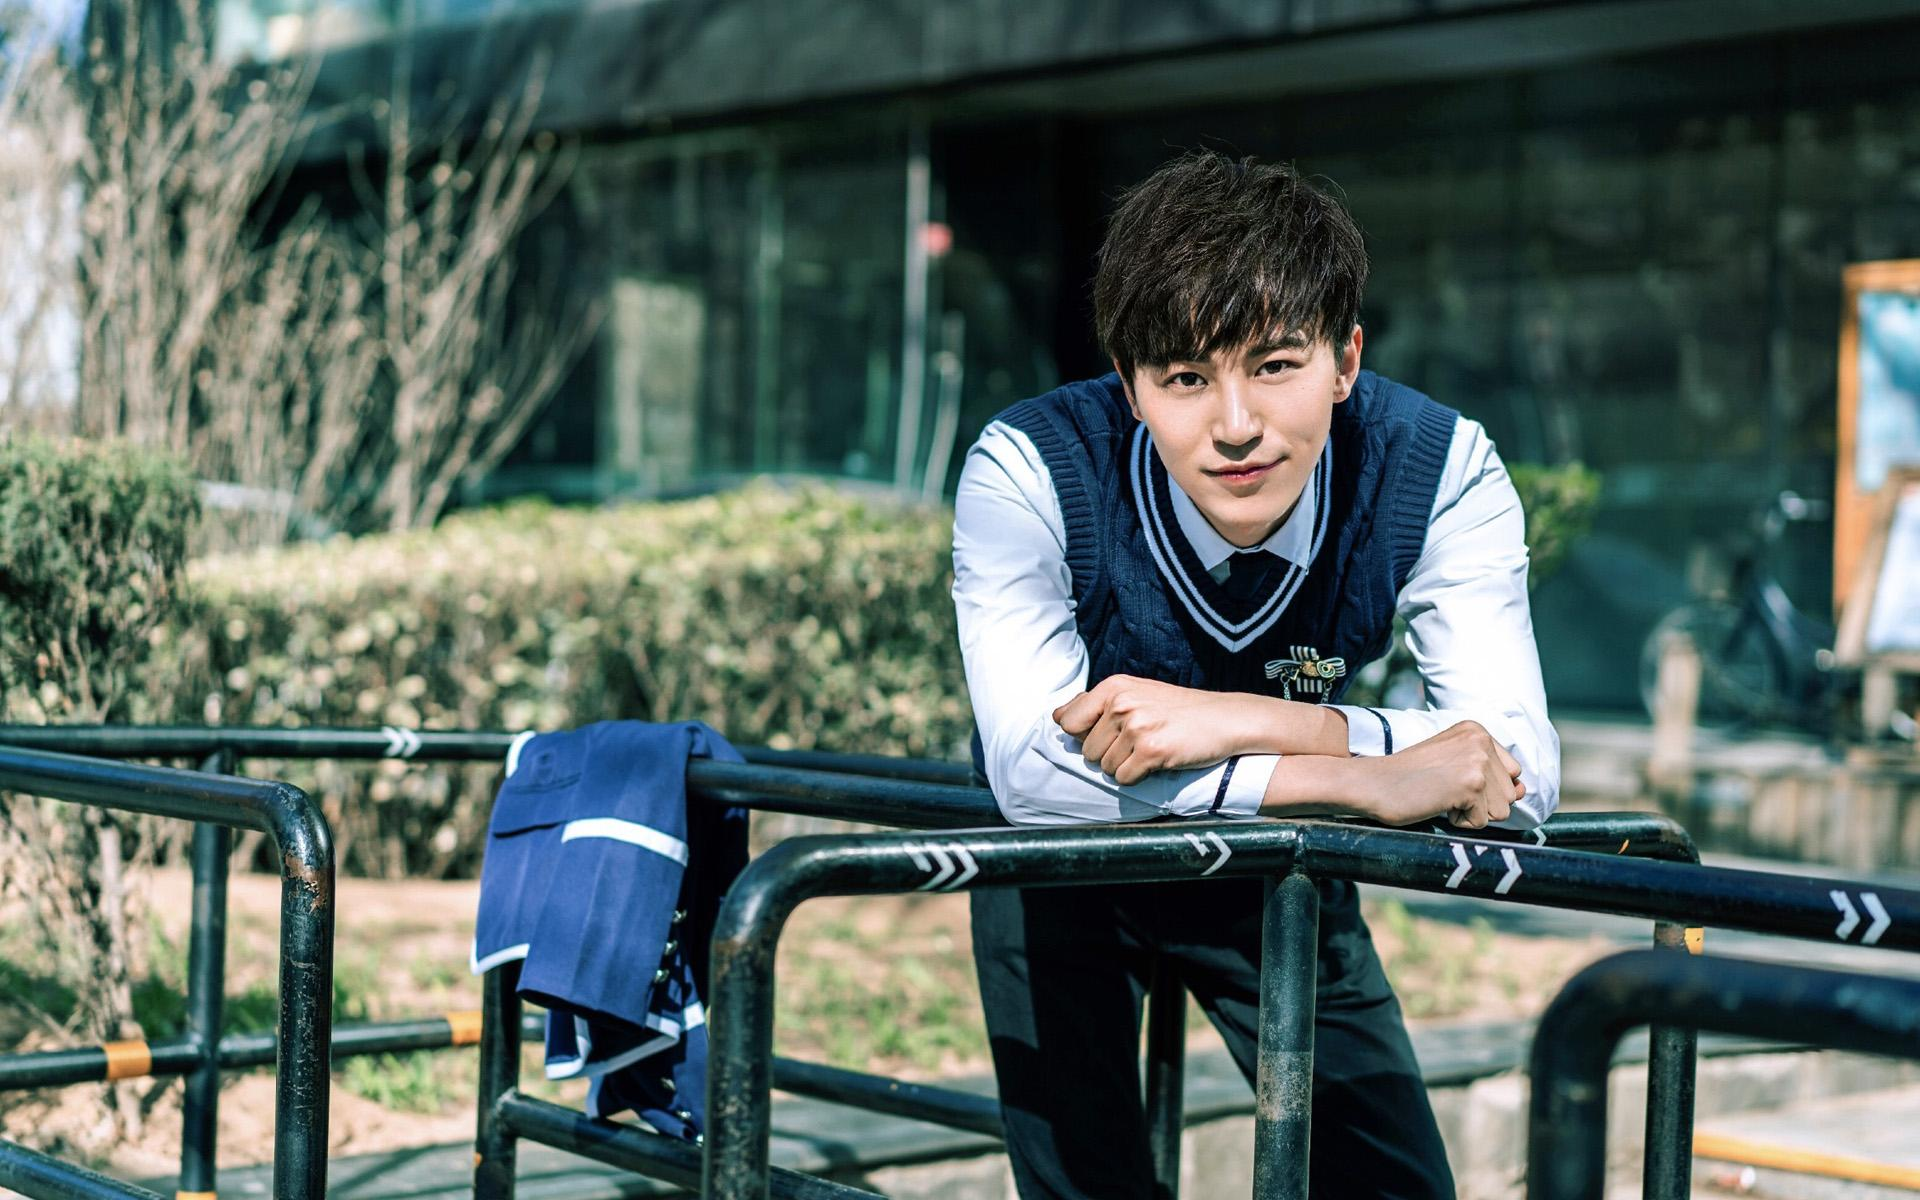person: (888, 191, 1463, 977)
